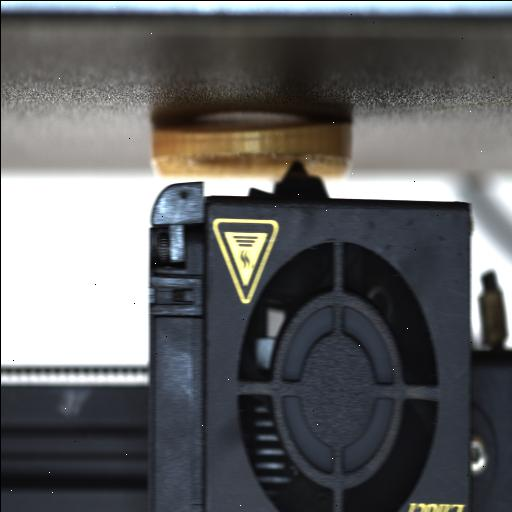warp: (157, 104, 349, 140)
